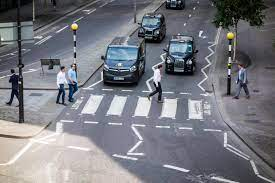Human: (232, 63, 253, 105), (51, 63, 69, 108), (152, 63, 164, 104), (67, 64, 78, 102)
Taxi: (164, 34, 197, 76)
Van: (105, 36, 146, 88)
Zebra crossing: (82, 88, 216, 132)
